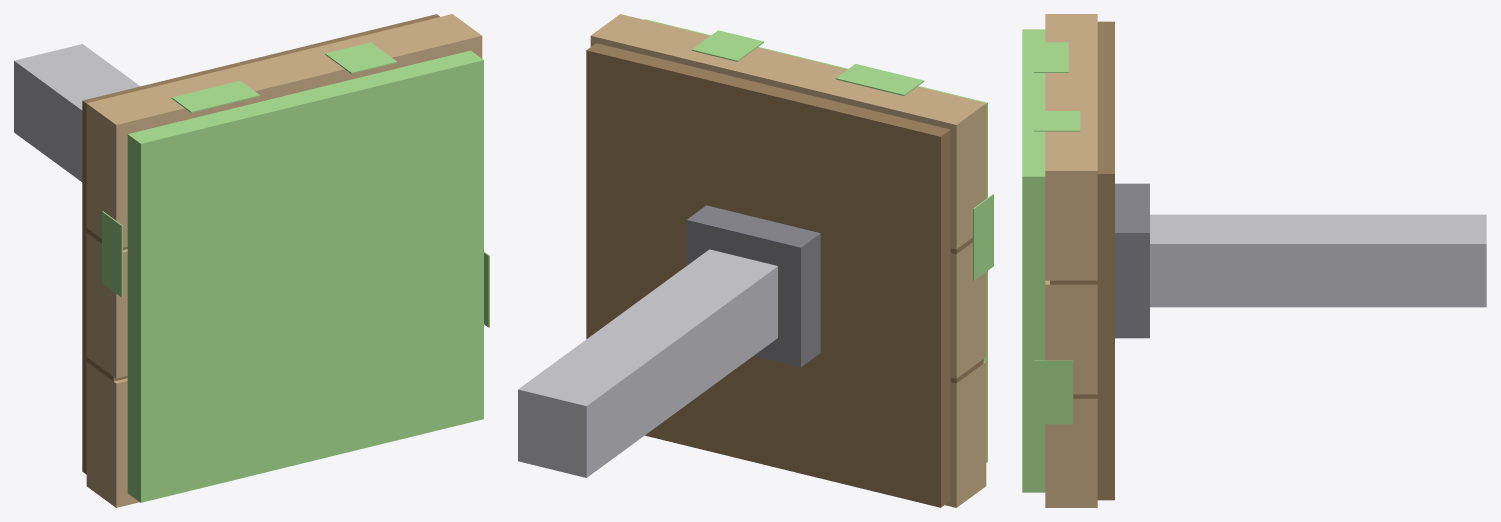
Rendered from sticky_piston_head.gltf.
The picture shows the model from 3 angles, left to right: view 1: azimuth 30°, elevation 25°; view 2: azimuth 150°, elevation 25°; view 3: azimuth 270°, elevation 25°; orthographic projection. The views are drawn at different scales.
Parts seen in each view (by area): view 1: sticky_piston_head; view 2: sticky_piston_head; view 3: sticky_piston_head.
Part boxes in pixels (x1,y1,x2,y2): sticky_piston_head: [14, 14, 489, 507]; sticky_piston_head: [518, 14, 993, 507]; sticky_piston_head: [1022, 14, 1486, 507].
Bounding box in the file's own units: 1.01 × 1 × 1.25.
